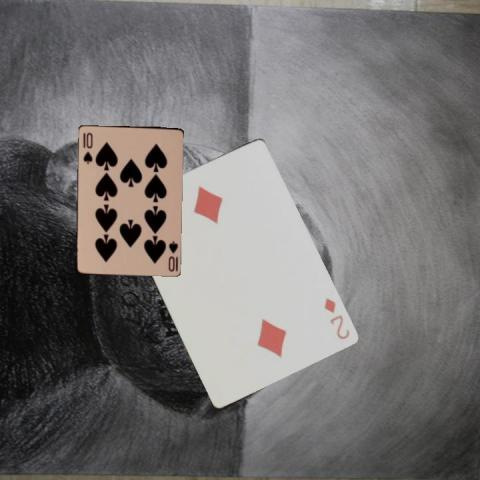10s: (80, 129, 94, 165), (165, 238, 179, 273)
2d: (320, 294, 350, 341)
